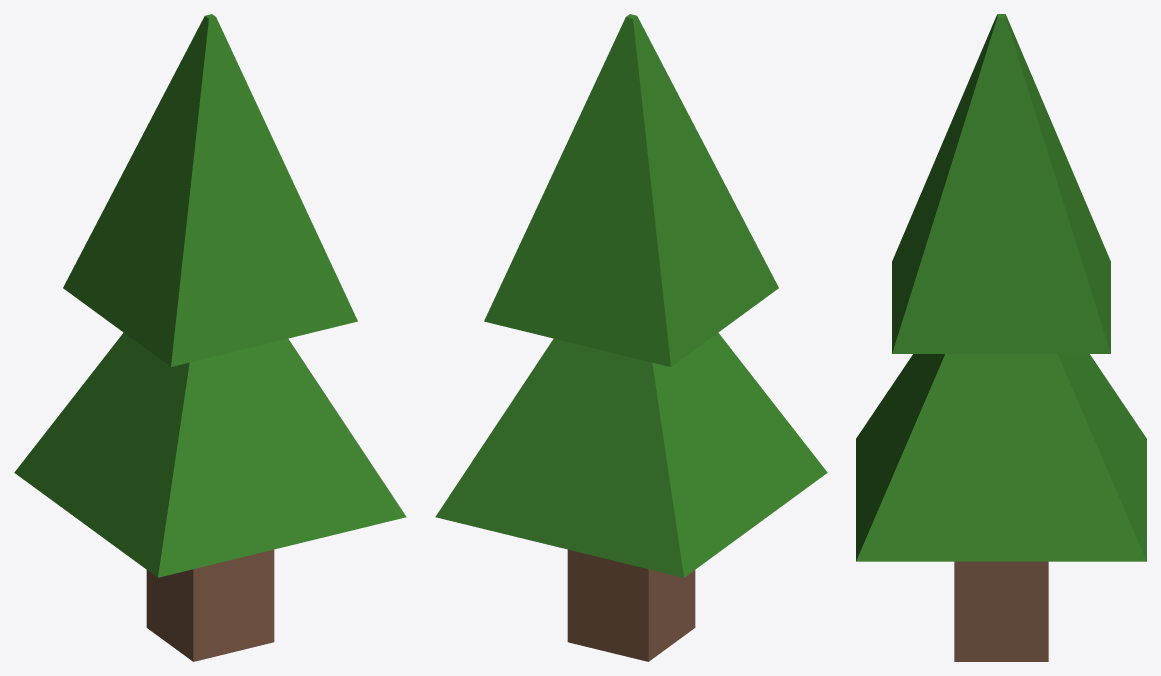
Rendered from OasenTree.fbx.
3 renders of one model, left to right at view 1: azimuth 30°, elevation 25°; view 2: azimuth 150°, elevation 25°; view 3: azimuth 270°, elevation 25°, orthographic.
Visible parts, largest first — view 1: Cube; view 2: Cube; view 3: Cube.
Part boxes in pixels (x1,y1,x2,y2): Cube: [14, 14, 406, 661]; Cube: [435, 14, 827, 661]; Cube: [856, 14, 1146, 661].
Size of the model in its own units: 260 by 617 by 260.
